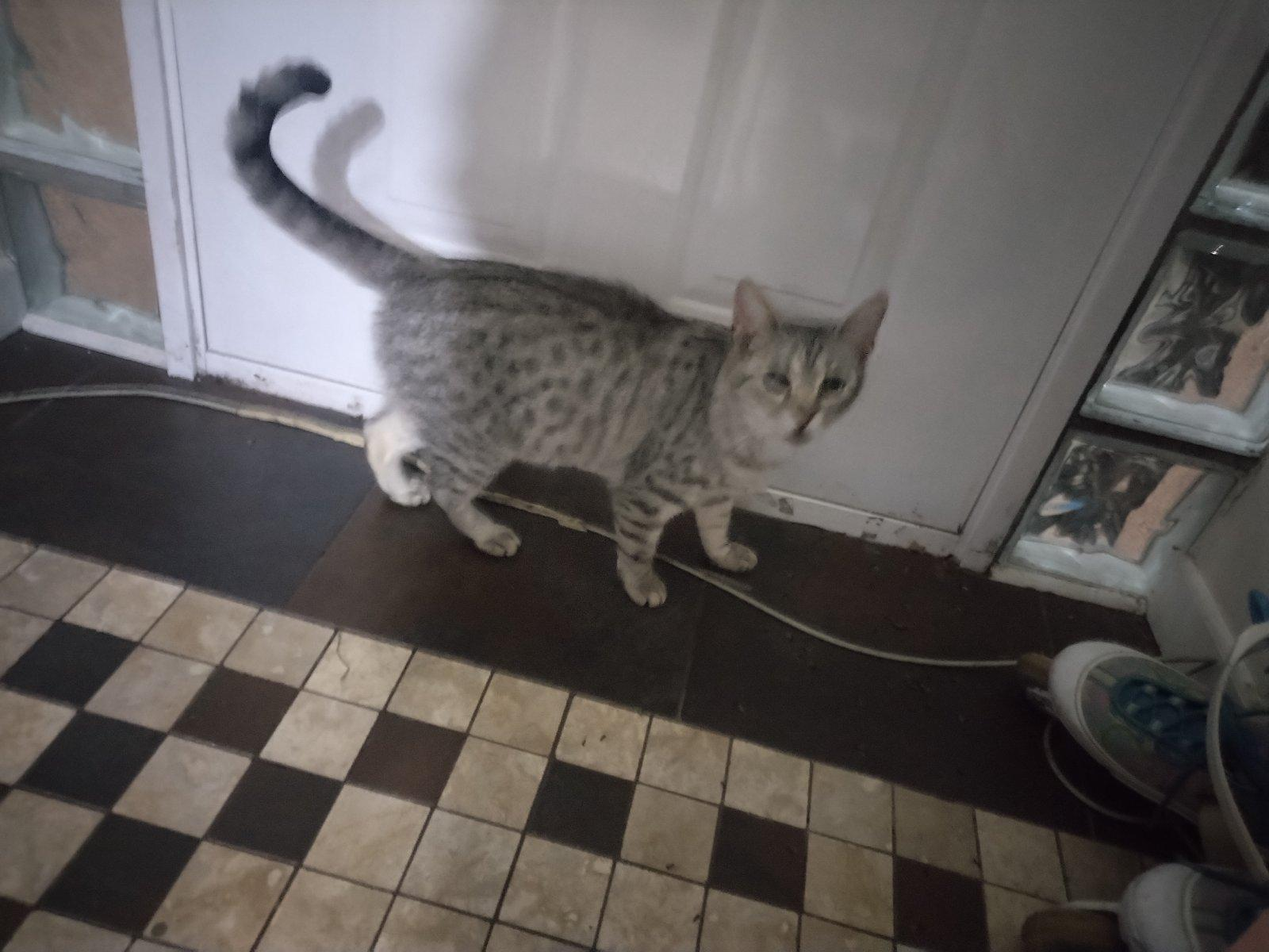macka: (226, 62, 889, 606)
